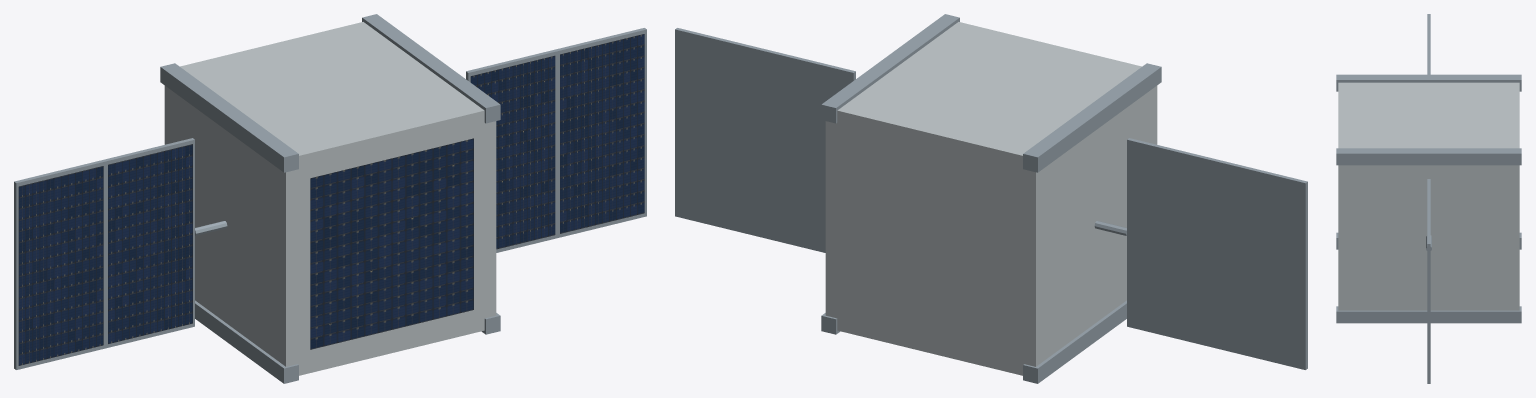
File: ref-cubesat-27u-57485.glb
3 views of the same model, side by side, from view 1: azimuth 30°, elevation 25°; view 2: azimuth 150°, elevation 25°; view 3: azimuth 270°, elevation 25° (orthographic). The views are drawn at different scales.
Visible parts, largest first — view 1: Spacecraft body, Photovoltaic laminates (×4), Body-mounted cells, Dispenser rail (×3), Array frame (×4); view 2: Spacecraft body, Array frame (×4), Dispenser rail (×3); view 3: Spacecraft body, Dispenser rail (×3), Array frame.
Boxes of the visible parts, <box> form: Spacecraft body: <box>164,22,496,375</box>; Photovoltaic laminates (×4): <box>18,34,644,365</box>; Body-mounted cells: <box>310,138,473,349</box>; Dispenser rail (×3): <box>160,14,500,383</box>; Array frame (×4): <box>14,28,646,369</box>; Spacecraft body: <box>825,22,1157,375</box>; Array frame (×4): <box>675,28,1307,369</box>; Dispenser rail (×3): <box>821,14,1161,383</box>; Spacecraft body: <box>1338,82,1519,310</box>; Dispenser rail (×3): <box>1336,74,1521,323</box>; Array frame: <box>1427,211,1430,383</box>.
Size of the model in its own units: 0.9 by 0.309 by 0.306.
3 materials, 1 textured.
